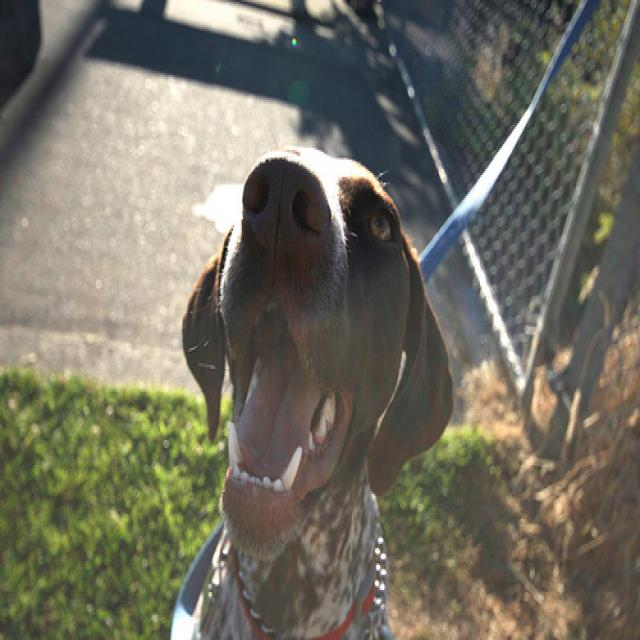dog-german_shorthaired: (177, 133, 458, 636)
